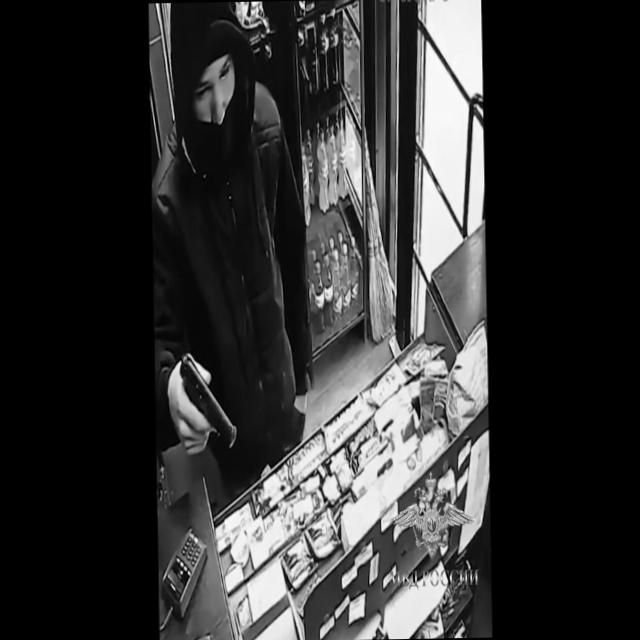gun: (170, 357, 240, 461)
person with a gun: (146, 2, 316, 515)
